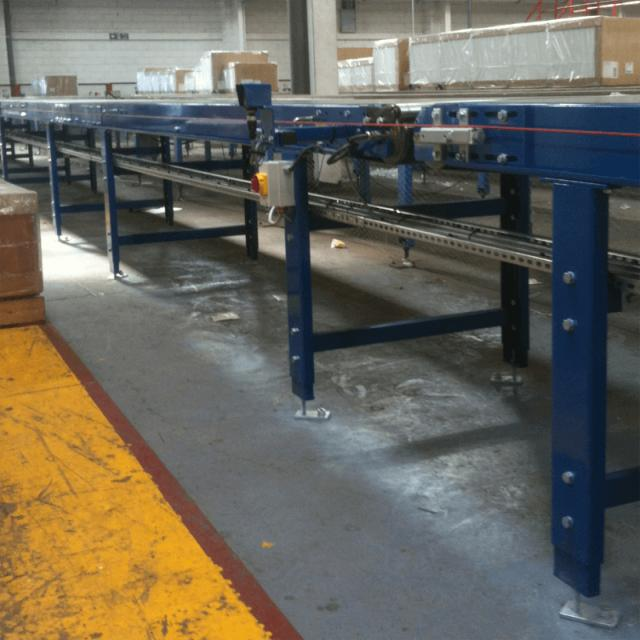Convoyeur: (1, 131, 640, 304)
